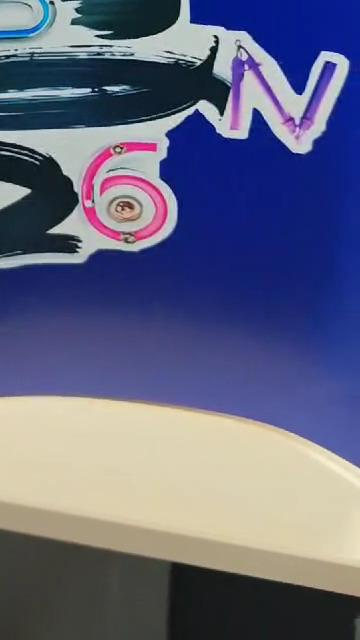B_R1: (0, 0, 359, 377)
